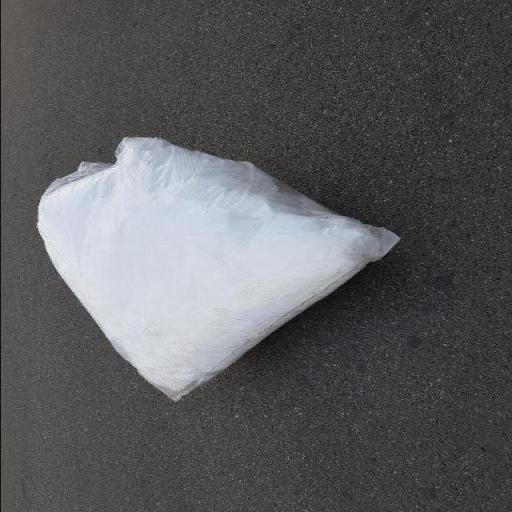plastic-bag: (37, 132, 402, 402)
